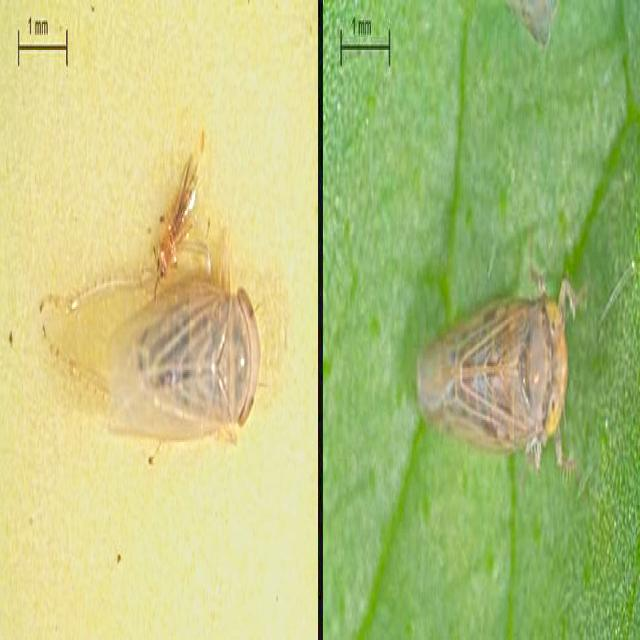Yechan: (408, 276, 582, 486), (109, 266, 268, 462)
